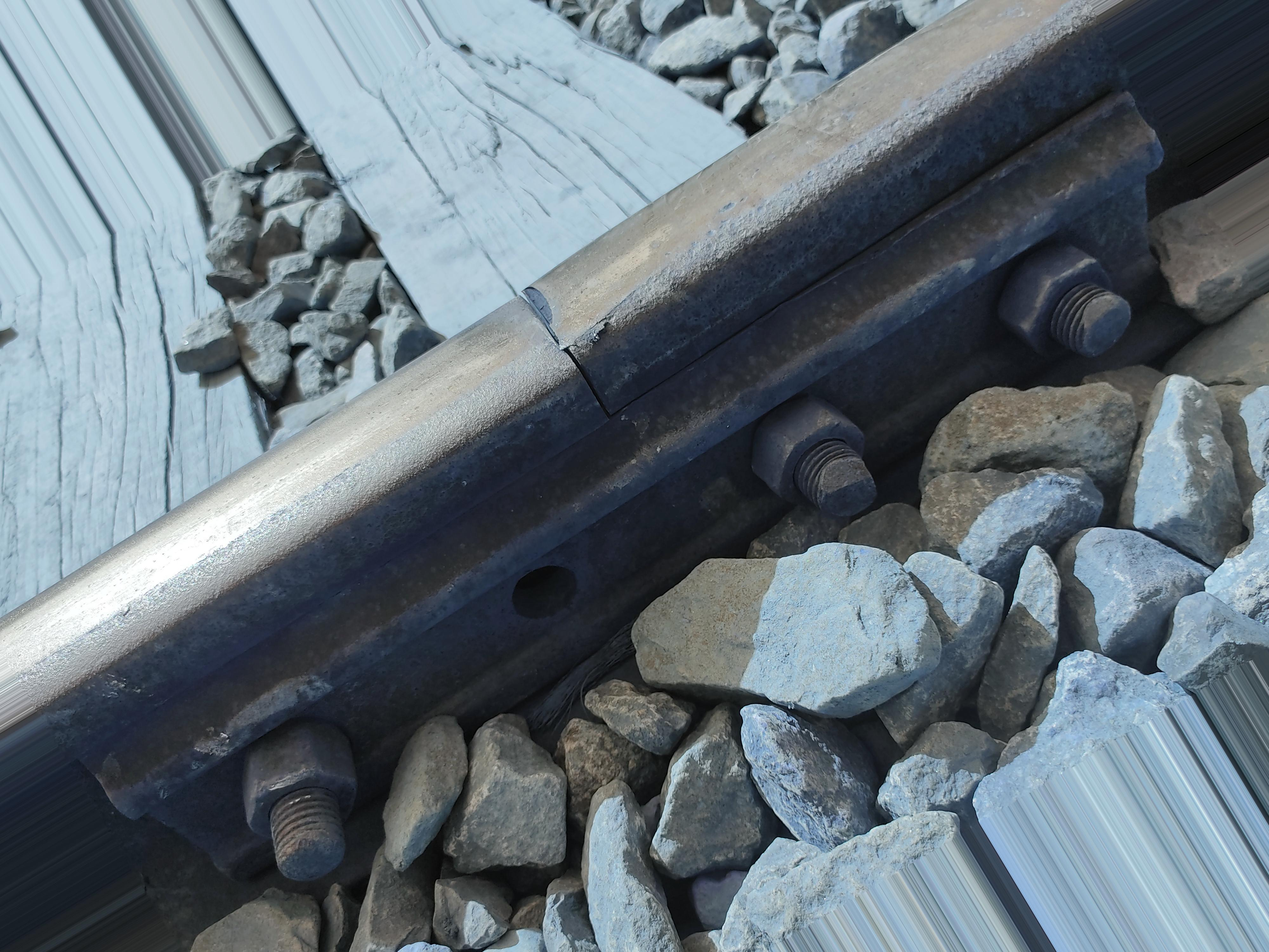tracks_fault: (476, 500, 633, 669)
